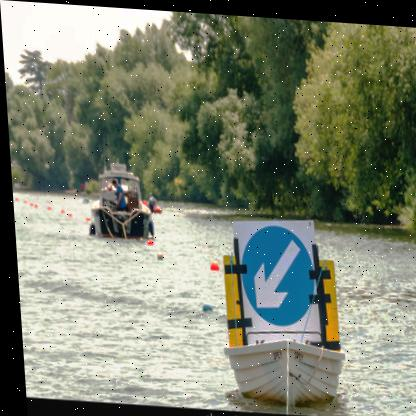Keep left: (229, 216, 317, 327)
